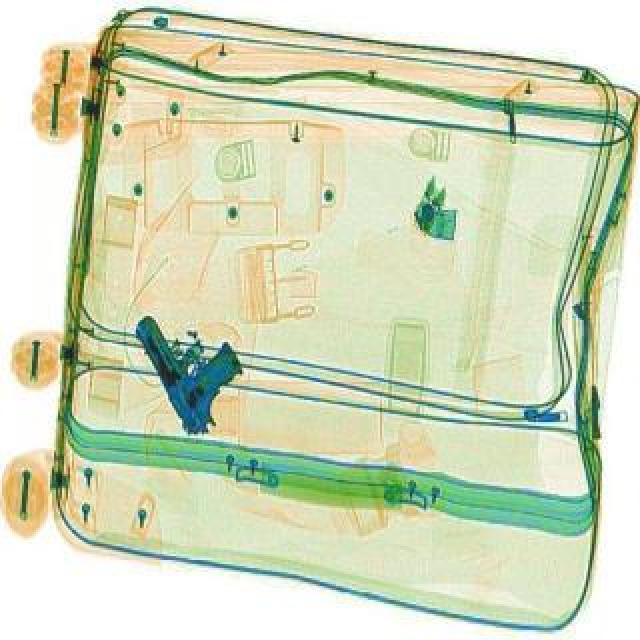gun: (126, 294, 266, 444)
